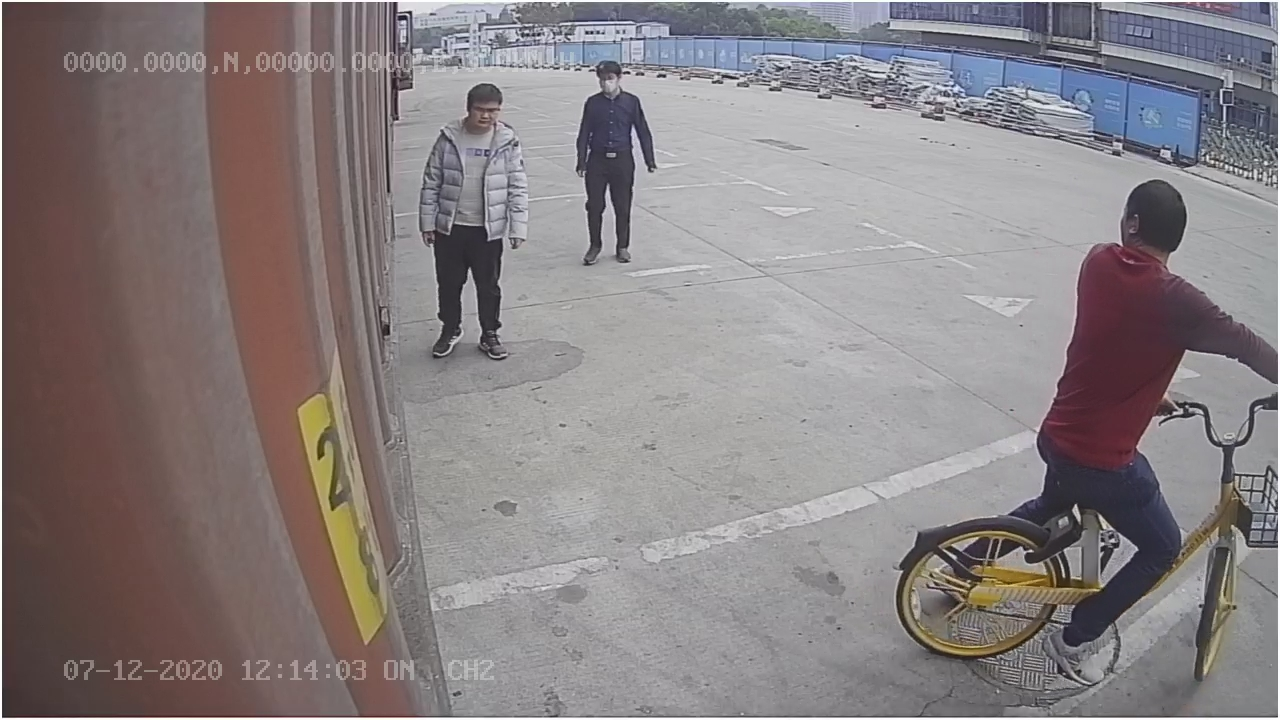person: (418, 79, 531, 358), (554, 55, 666, 279)
